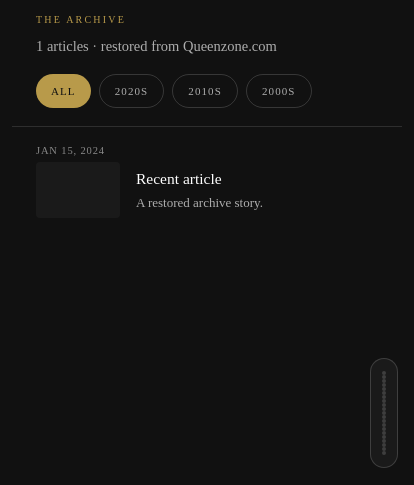
it: NewsIndexScreen › picking a decade re-queries the server instead of filtering the loaded page
The width and height of the screenshot is (414, 485).
Expected: the button with aria-label "Open Recent article" is shown, [12,126,402,234]
Click the button "2000s" at (279, 91), box [246,74,312,108]
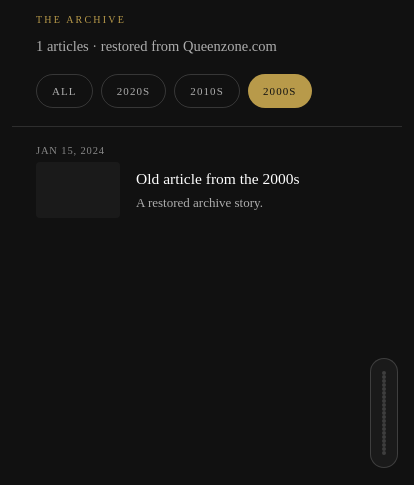
Expected: the button with aria-label "Open Old article from the 2000s" is shown, [12,126,402,234]
